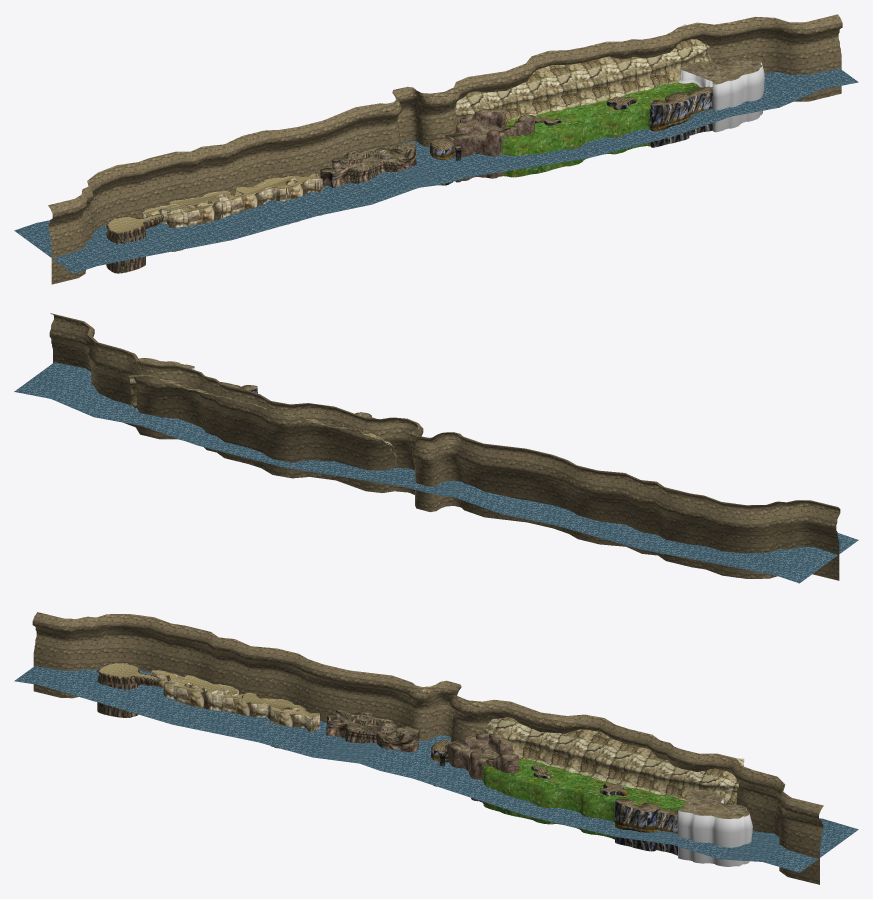
Rendered from FinsterWald_Stage-1_MainGeoLayout_ver_1-011_tex.fbx.
3 views of the same model, one above another, from view 1: azimuth 30°, elevation 25°; view 2: azimuth 150°, elevation 25°; view 3: azimuth 330°, elevation 25° (orthographic).
Visible parts, largest first — view 1: BackGeo, MainGeo, PoisonWater; view 2: BackGeo, PoisonWater, MainGeo; view 3: BackGeo, MainGeo, PoisonWater.
Part boxes in pixels (x1=…): BackGeo: x1=48, y1=14, x2=842, y2=284; MainGeo: x1=106, y1=24, x2=764, y2=273; PoisonWater: x1=14, y1=68, x2=858, y2=273; BackGeo: x1=49, y1=313, x2=840, y2=580; PoisonWater: x1=14, y1=362, x2=858, y2=583; MainGeo: x1=129, y1=358, x2=399, y2=468; BackGeo: x1=32, y1=612, x2=823, y2=884; MainGeo: x1=97, y1=662, x2=752, y2=866; PoisonWater: x1=14, y1=666, x2=858, y2=872.
Size of the model in its own units: 860 by 84.11 by 112.
Materials: 16 (14 with a texture image).
